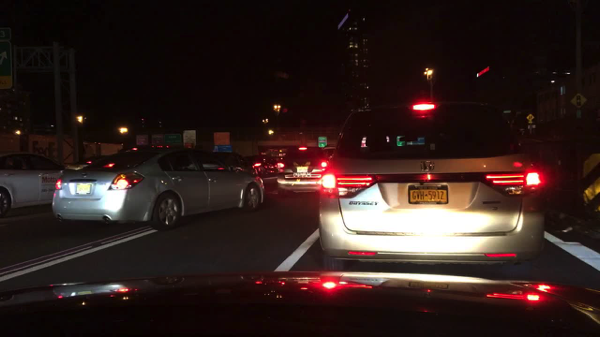car: (314, 98, 550, 274), (51, 147, 266, 231), (0, 153, 70, 218), (276, 145, 334, 197), (245, 156, 278, 178)
traffic sign: (582, 153, 599, 214), (0, 42, 17, 89), (569, 92, 587, 108), (183, 130, 196, 148), (164, 134, 182, 145), (150, 134, 163, 146), (136, 134, 150, 145), (1, 28, 12, 40), (318, 135, 327, 148), (525, 112, 534, 122), (574, 109, 582, 120)
